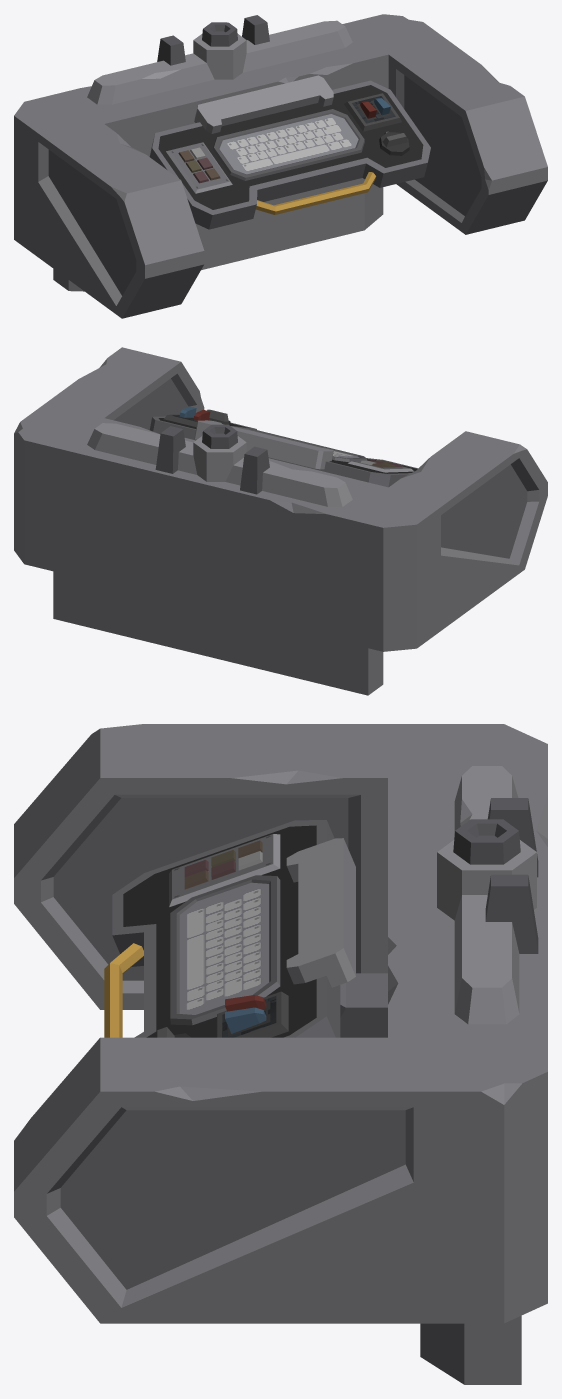
Rendered from SM_Prop_Desk_Small_01.glb.
3 views of the same model, one above another, from view 1: azimuth 30°, elevation 25°; view 2: azimuth 150°, elevation 25°; view 3: azimuth 270°, elevation 25° (orthographic). The views are drawn at different scales.
Parts seen in each view (by area): view 1: SM_Prop_Desk_Small_01; view 2: SM_Prop_Desk_Small_01; view 3: SM_Prop_Desk_Small_01.
Boxes of the visible parts, box(x1,y1,x2,y2) form: SM_Prop_Desk_Small_01: box(14, 14, 547, 318); SM_Prop_Desk_Small_01: box(14, 347, 547, 695); SM_Prop_Desk_Small_01: box(14, 724, 547, 1384).
Bounding box in the file's own units: 1.55 × 0.8053 × 0.9496.
1 material, 1 textured.
